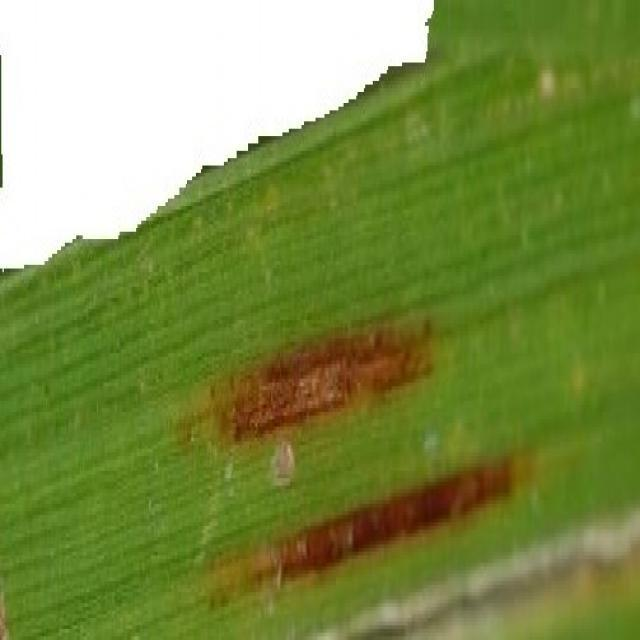Leafsmut: (212, 456, 522, 601), (187, 323, 432, 441)
